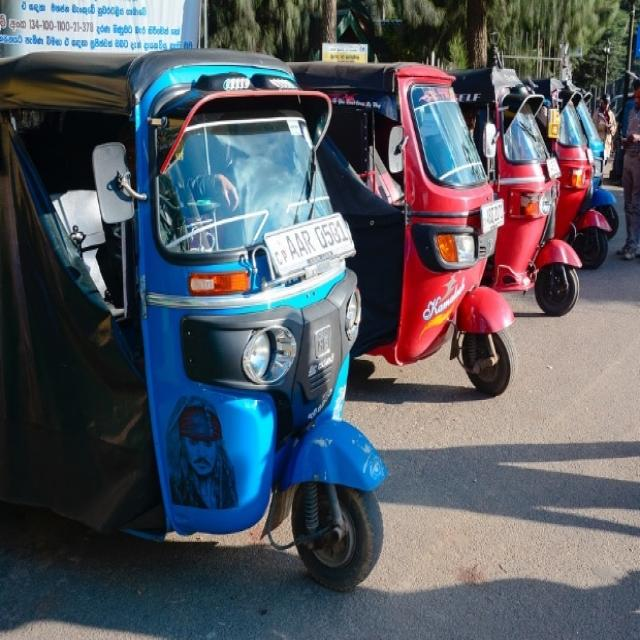autorickshaw: (0, 53, 388, 589), (292, 63, 515, 393), (454, 68, 580, 315), (532, 79, 618, 267)
